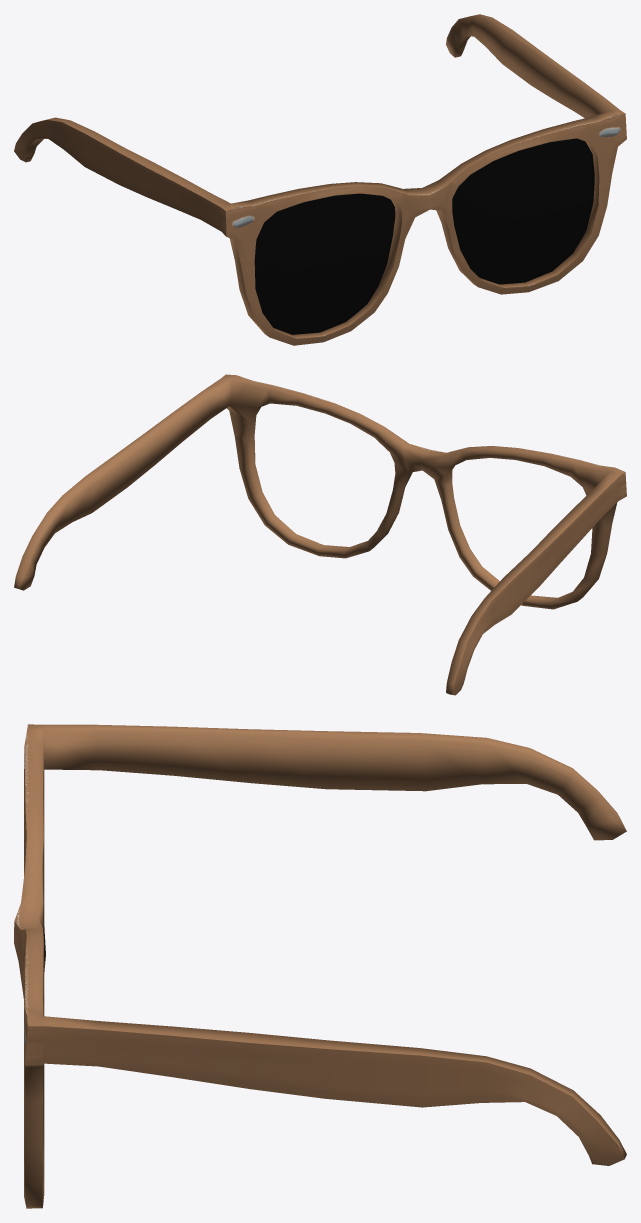
3 renders of one model, top to bottom at view 1: azimuth 30°, elevation 25°; view 2: azimuth 150°, elevation 25°; view 3: azimuth 270°, elevation 25°, orthographic. The views are drawn at different scales.
Parts seen in each view (by area): view 1: Wolf3D_Glasses; view 2: Wolf3D_Glasses; view 3: Wolf3D_Glasses.
Part boxes in pixels (<box>): Wolf3D_Glasses: <box>14,14,626,345</box>; Wolf3D_Glasses: <box>14,374,626,695</box>; Wolf3D_Glasses: <box>14,724,626,1208</box>.
Size of the model in its own units: 0.1654 by 0.0562 by 0.129.
Materials: 1 (1 with a texture image).
